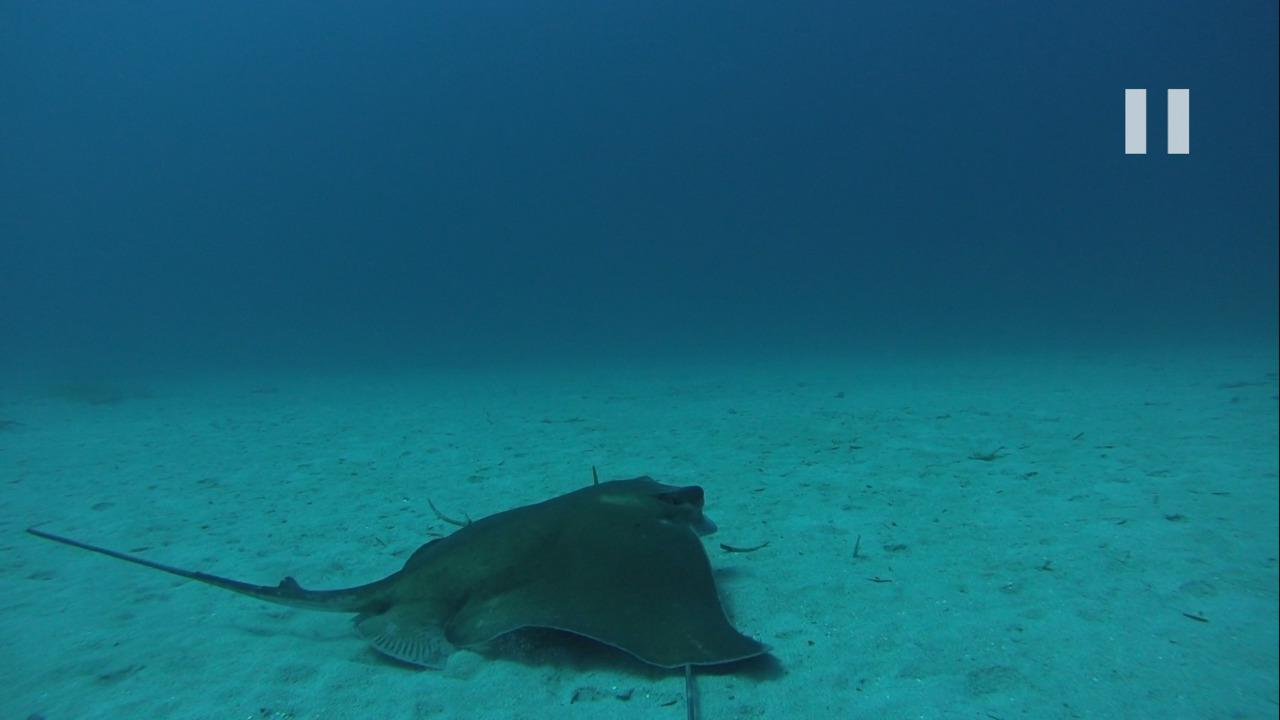myliobatis: (23, 470, 777, 678)
